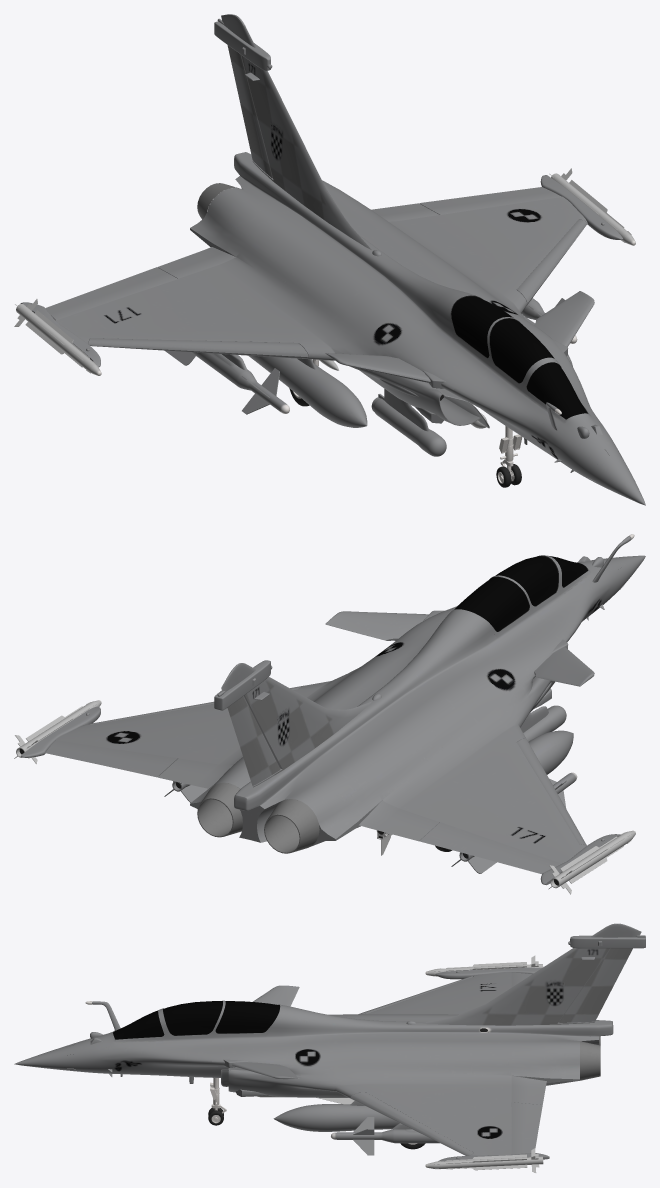
File: uploads-files-2784842-Rafale-v1.glb
3 views of the same model, one above another, from view 1: azimuth 30°, elevation 25°; view 2: azimuth 150°, elevation 25°; view 3: azimuth 270°, elevation 25° (orthographic). The views are drawn at different scales.
Visible parts, largest first — view 1: Fuselage, Tail, GlassRear, FuelTankR, SlatR, GBU-24R, EleronR, Damocles, GlassFront, EleronL, KanardL, Rudder (+8 smaller); view 2: Fuselage, Tail, GlassRear, EleronR, EngineR, EleronL, Rudder, KanardL, EngineL, FlapR, MICAR, KanardR (+10 smaller); view 3: Fuselage, Tail, GlassRear, FuelTankL, Rudder, GBU-24L, EleronL, MICAL, SlatL, CanopyRear, FlapL, GlassFront (+6 smaller).
Boxes of the visible parts, x1=… form: Fuselage: x1=56, y1=152, x2=645, y2=505; Tail: x1=214, y1=14, x2=371, y2=249; GlassRear: x1=451, y1=296, x2=554, y2=383; FuelTankR: x1=248, y1=355, x2=367, y2=427; SlatR: x1=88, y1=338, x2=308, y2=358; GBU-24R: x1=165, y1=350, x2=289, y2=414; EleronR: x1=45, y1=267, x2=177, y2=320; Damocles: x1=371, y1=389, x2=446, y2=456; GlassFront: x1=527, y1=362, x2=587, y2=419; EleronL: x1=419, y1=187, x2=561, y2=214; KanardL: x1=534, y1=291, x2=594, y2=346; Rudder: x1=227, y1=45, x2=272, y2=178; Fuselage: x1=55, y1=555, x2=645, y2=863; Tail: x1=214, y1=660, x2=371, y2=787; GlassRear: x1=454, y1=556, x2=558, y2=631; EleronR: x1=419, y1=822, x2=561, y2=874; EngineR: x1=264, y1=799, x2=319, y2=853; EleronL: x1=45, y1=740, x2=177, y2=777; Rudder: x1=227, y1=696, x2=280, y2=785; KanardL: x1=325, y1=611, x2=428, y2=640; EngineL: x1=197, y1=782, x2=242, y2=837; FlapR: x1=359, y1=800, x2=439, y2=841; MICAR: x1=548, y1=830, x2=635, y2=894; KanardR: x1=534, y1=647, x2=594, y2=686; Fuselage: x1=14, y1=972, x2=613, y2=1155; Tail: x1=419, y1=923, x2=645, y2=1025; GlassRear: x1=163, y1=1001, x2=279, y2=1035; FuelTankL: x1=273, y1=1104, x2=399, y2=1131; Rudder: x1=558, y1=948, x2=632, y2=1022; GBU-24L: x1=331, y1=1117, x2=439, y2=1155; EleronL: x1=511, y1=1102, x2=542, y2=1154; MICAL: x1=425, y1=1148, x2=543, y2=1172; SlatL: x1=350, y1=1092, x2=473, y2=1155; CanopyRear: x1=160, y1=1000, x2=283, y2=1040; FlapL: x1=511, y1=1076, x2=546, y2=1104; GlassFront: x1=113, y1=1010, x2=164, y2=1039.
Size of the model in its own units: 11.56 by 5.36 by 15.38.
Materials: 2 (1 with a texture image).
